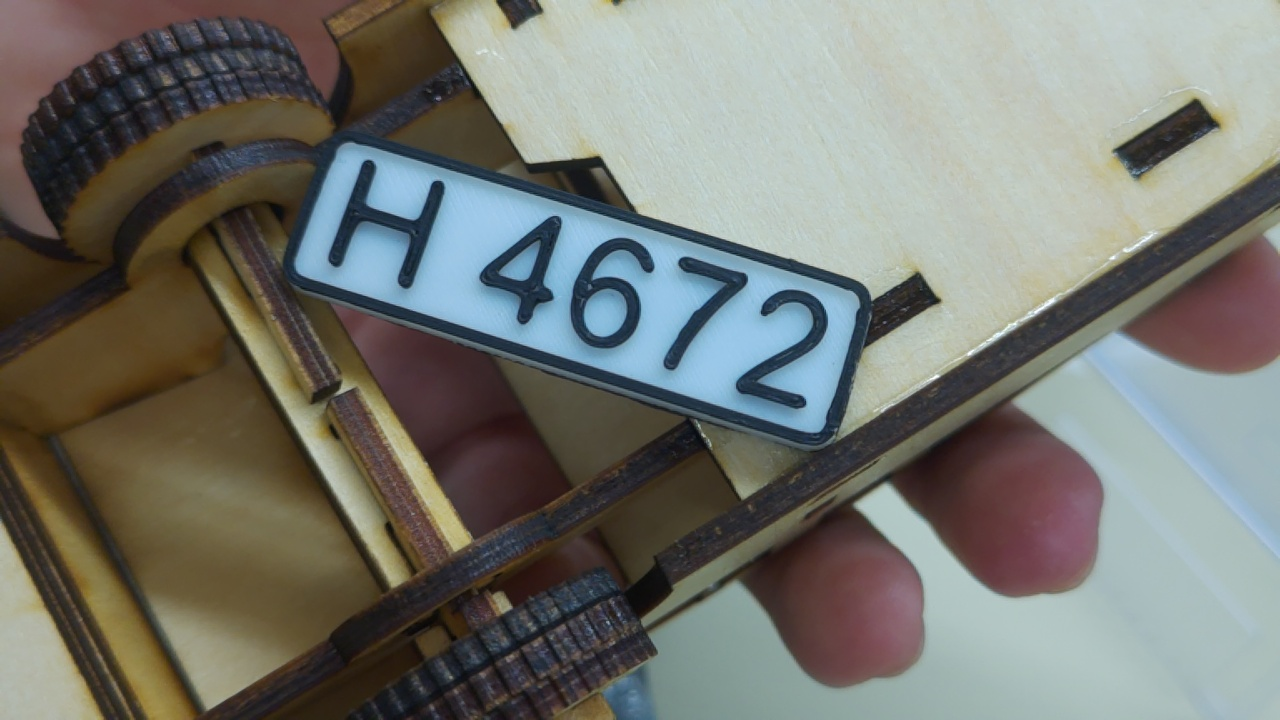license_plate: (273, 125, 882, 467)
